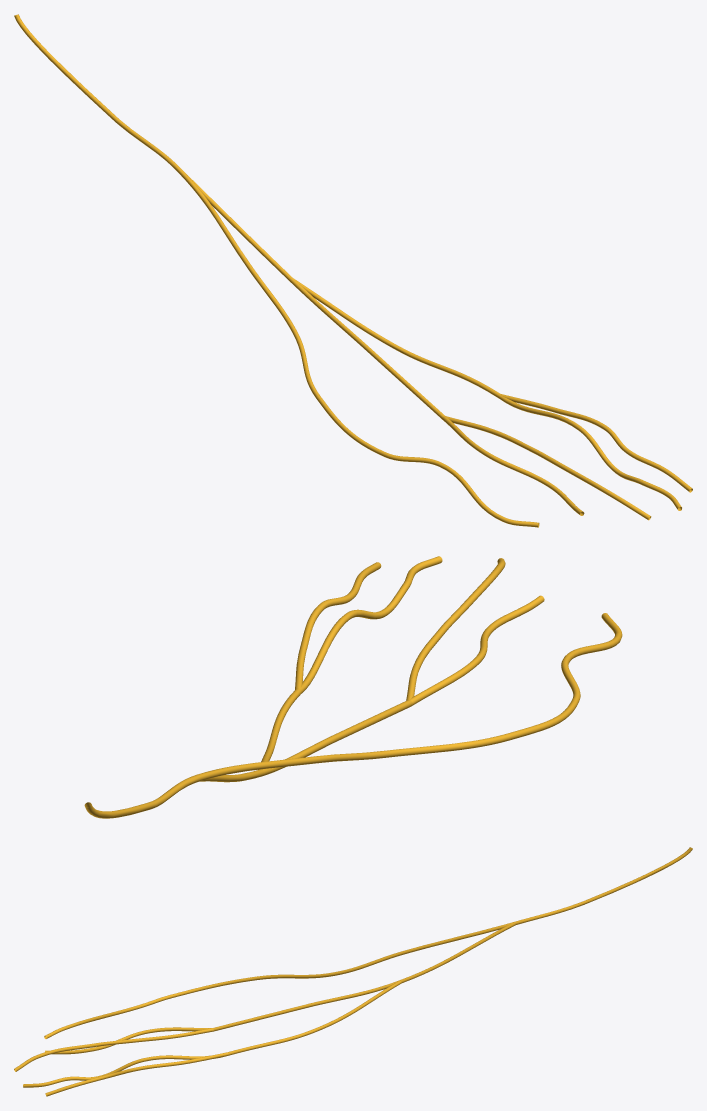
Rendered from nervoso-medial-plantar-nerve-l.glb.
The picture shows the model from 3 angles, top to bottom: view 1: azimuth 30°, elevation 25°; view 2: azimuth 150°, elevation 25°; view 3: azimuth 270°, elevation 25°; orthographic projection. The views are drawn at different scales.
Visible parts, largest first — view 1: Proper plantar digital branches of medial plantar nerve.l, Common plantar digital branches of medial plantar nerve.l, Medial plantar nerve.l; view 2: Proper plantar digital branches of medial plantar nerve.l, Common plantar digital branches of medial plantar nerve.l, Medial plantar nerve.l; view 3: Proper plantar digital branches of medial plantar nerve.l, Common plantar digital branches of medial plantar nerve.l, Medial plantar nerve.l.
Boxes of the visible parts, x1,y1,x2,y2 form: Proper plantar digital branches of medial plantar nerve.l: [316, 394, 692, 527]; Common plantar digital branches of medial plantar nerve.l: [249, 268, 500, 419]; Medial plantar nerve.l: [14, 14, 292, 281]; Proper plantar digital branches of medial plantar nerve.l: [295, 556, 622, 740]; Common plantar digital branches of medial plantar nerve.l: [258, 688, 511, 776]; Medial plantar nerve.l: [84, 756, 320, 818]; Proper plantar digital branches of medial plantar nerve.l: [14, 976, 256, 1096]; Common plantar digital branches of medial plantar nerve.l: [213, 951, 402, 1055]; Medial plantar nerve.l: [400, 847, 692, 982].
Size of the model in its own units: 0.0571 by 0.0491 by 0.1856.
